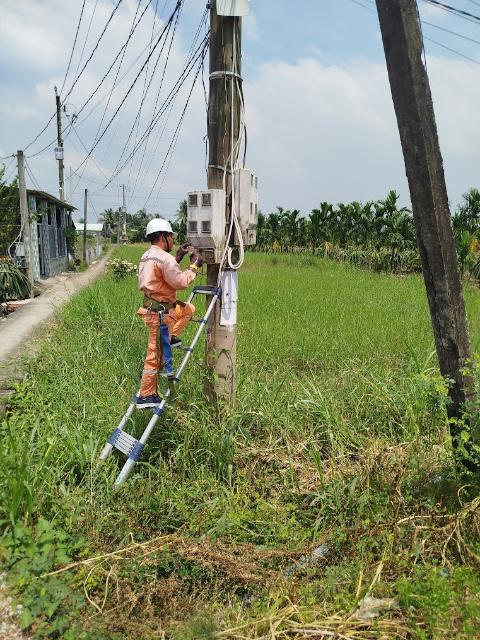gloves: (188, 252, 216, 277), (171, 246, 196, 260)
helmet: (143, 215, 181, 241)
shoes: (156, 330, 199, 357), (133, 390, 179, 411)
